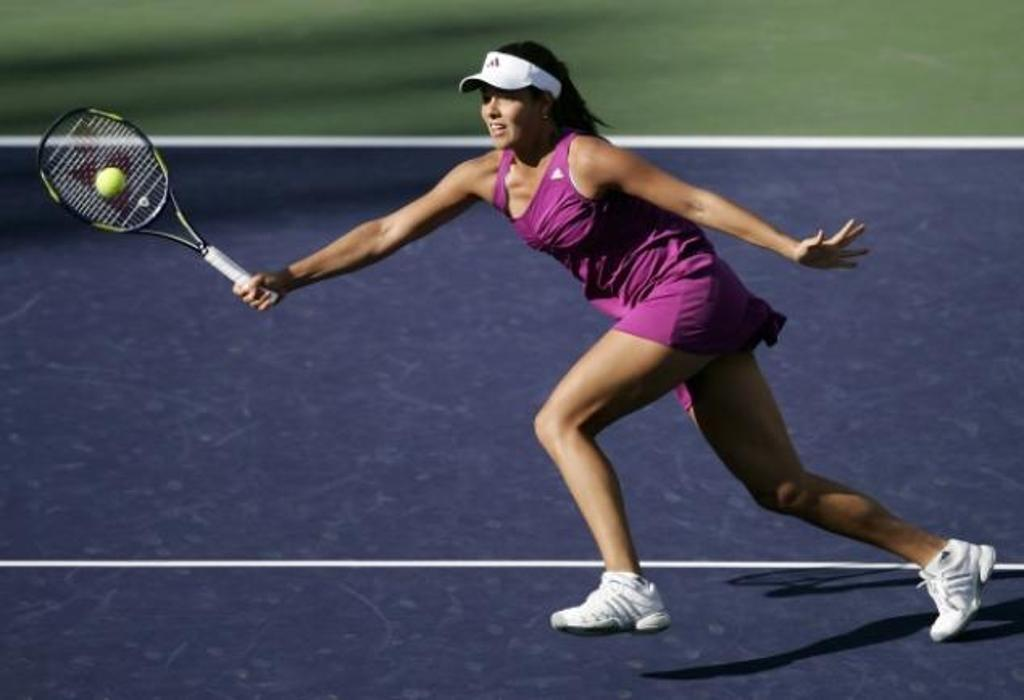face: (479, 77, 541, 151)
